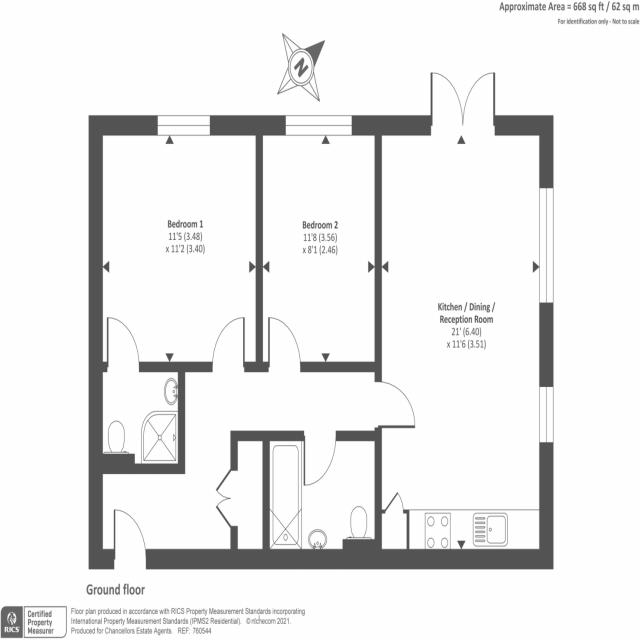DOOR: (374, 376, 421, 435), (104, 310, 145, 373), (111, 506, 151, 570), (300, 430, 339, 490), (209, 310, 246, 372), (266, 313, 304, 373)
DOUBLE DOOR: (424, 65, 499, 135)
ROOM: (374, 65, 554, 568), (87, 114, 261, 373), (261, 115, 382, 372)
WINDOW: (536, 184, 558, 308), (282, 114, 354, 139), (536, 374, 558, 450), (154, 113, 213, 140)
